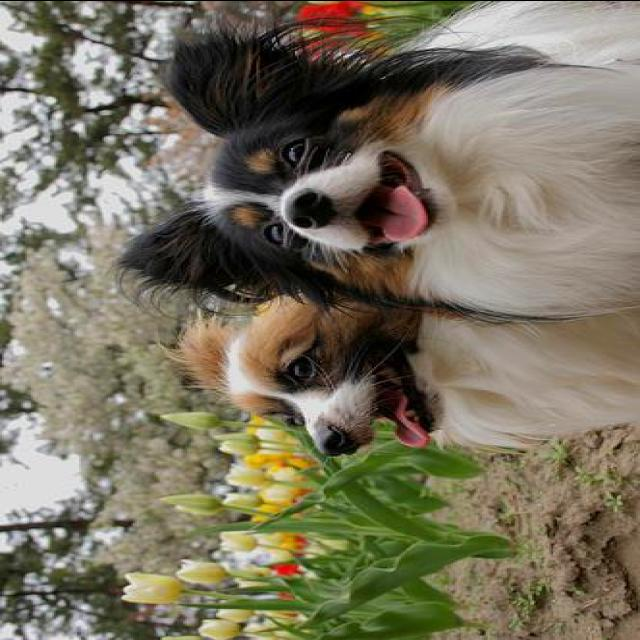papillon: (112, 0, 638, 320), (174, 296, 638, 458)
